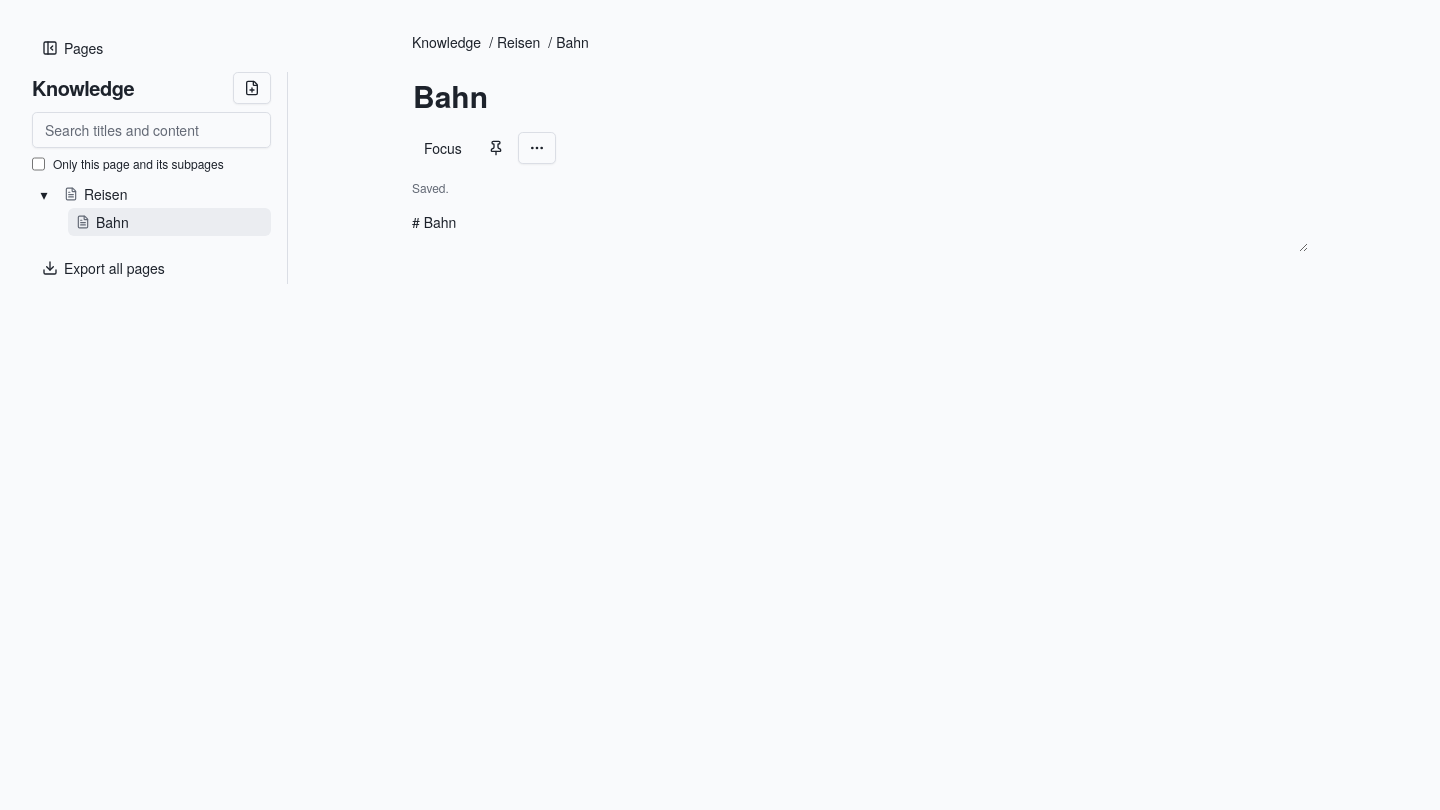
Scenario: Knowledge › shows what a page used to say and says what putting one back does
Click the button named "Page actions": point(537, 148) [518, 132, 556, 164]
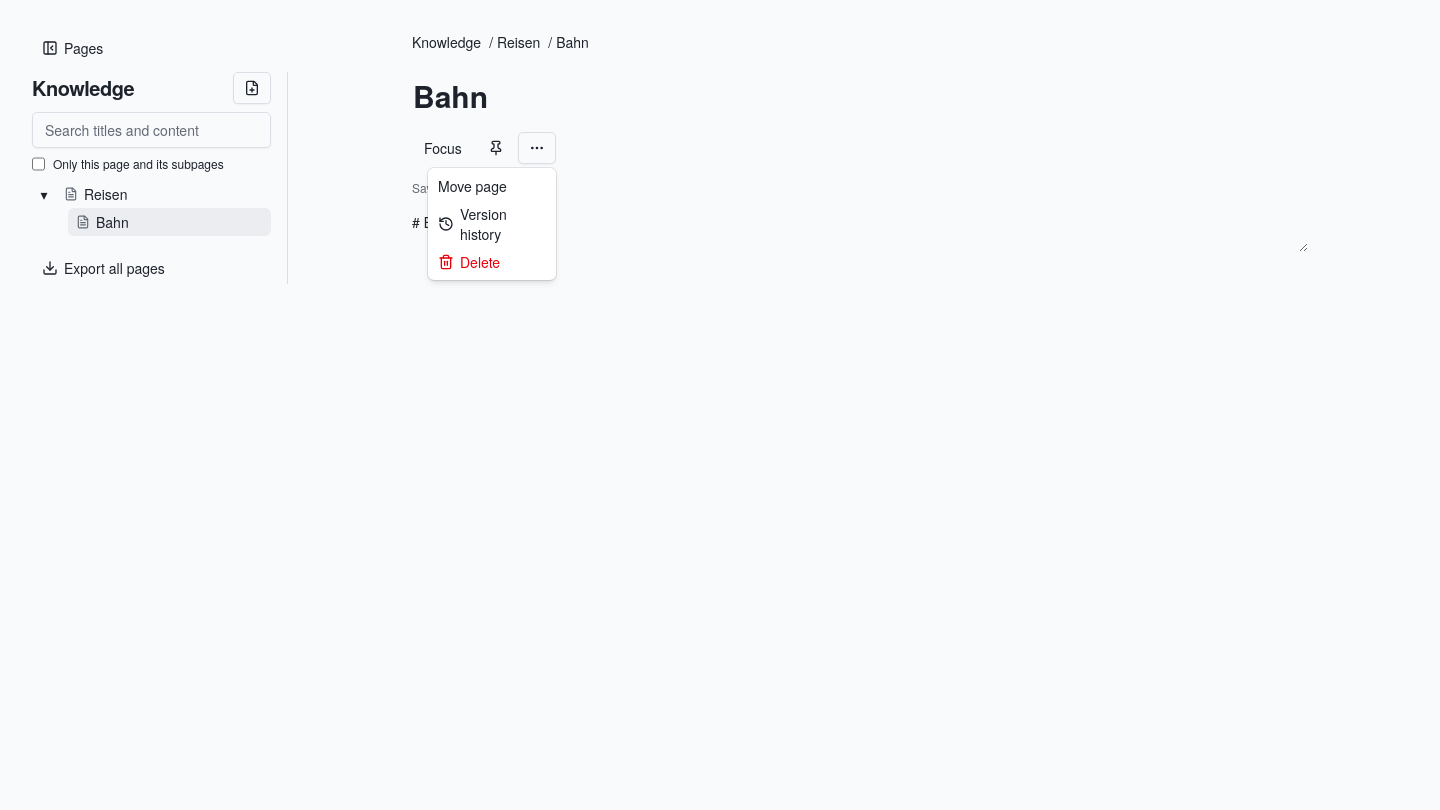
Click the menu item "Version history": point(472, 224) [438, 204, 507, 244]
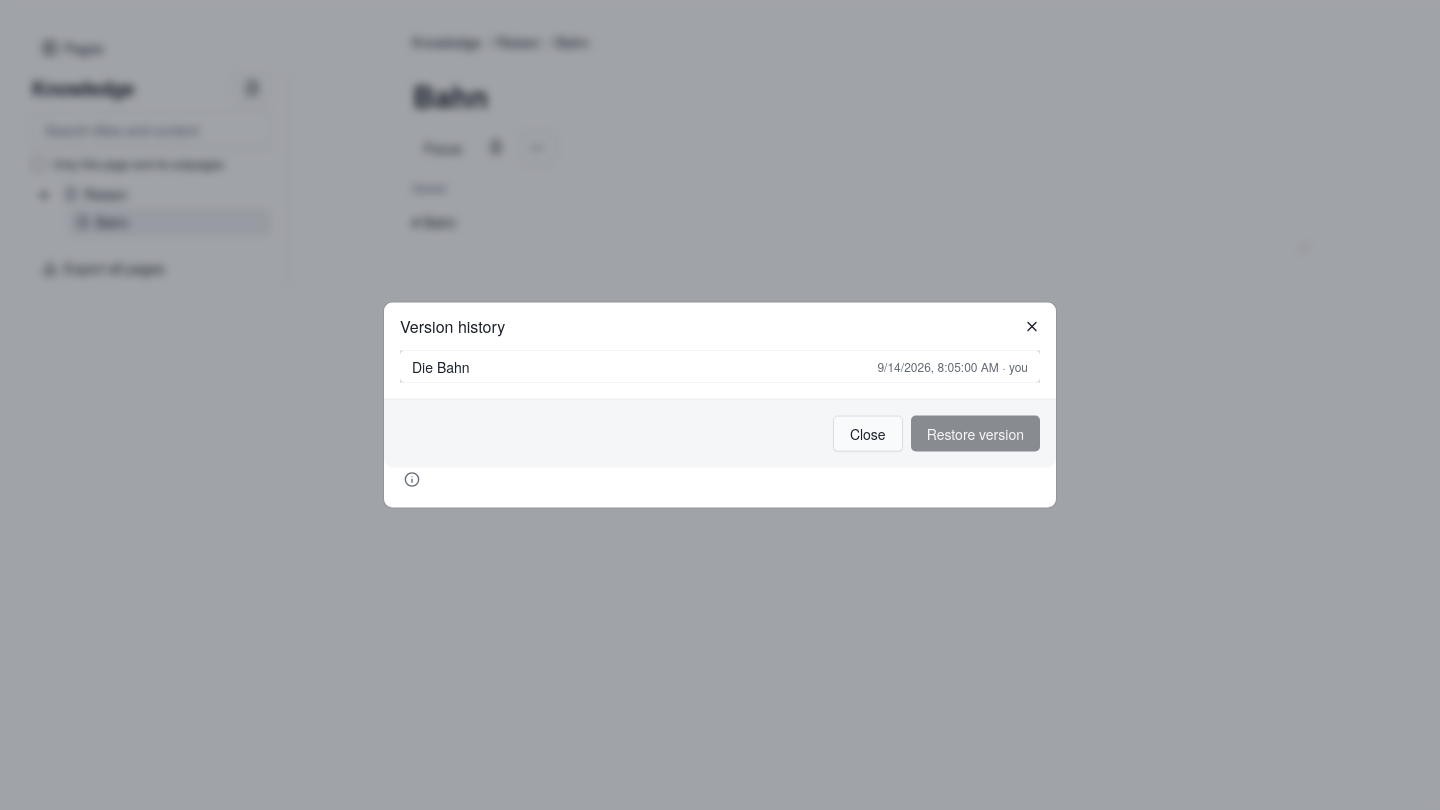
Click the button "Die Bahn 9/14/2026, 8:05:00 AM · you": point(441, 366) [400, 350, 1040, 382]
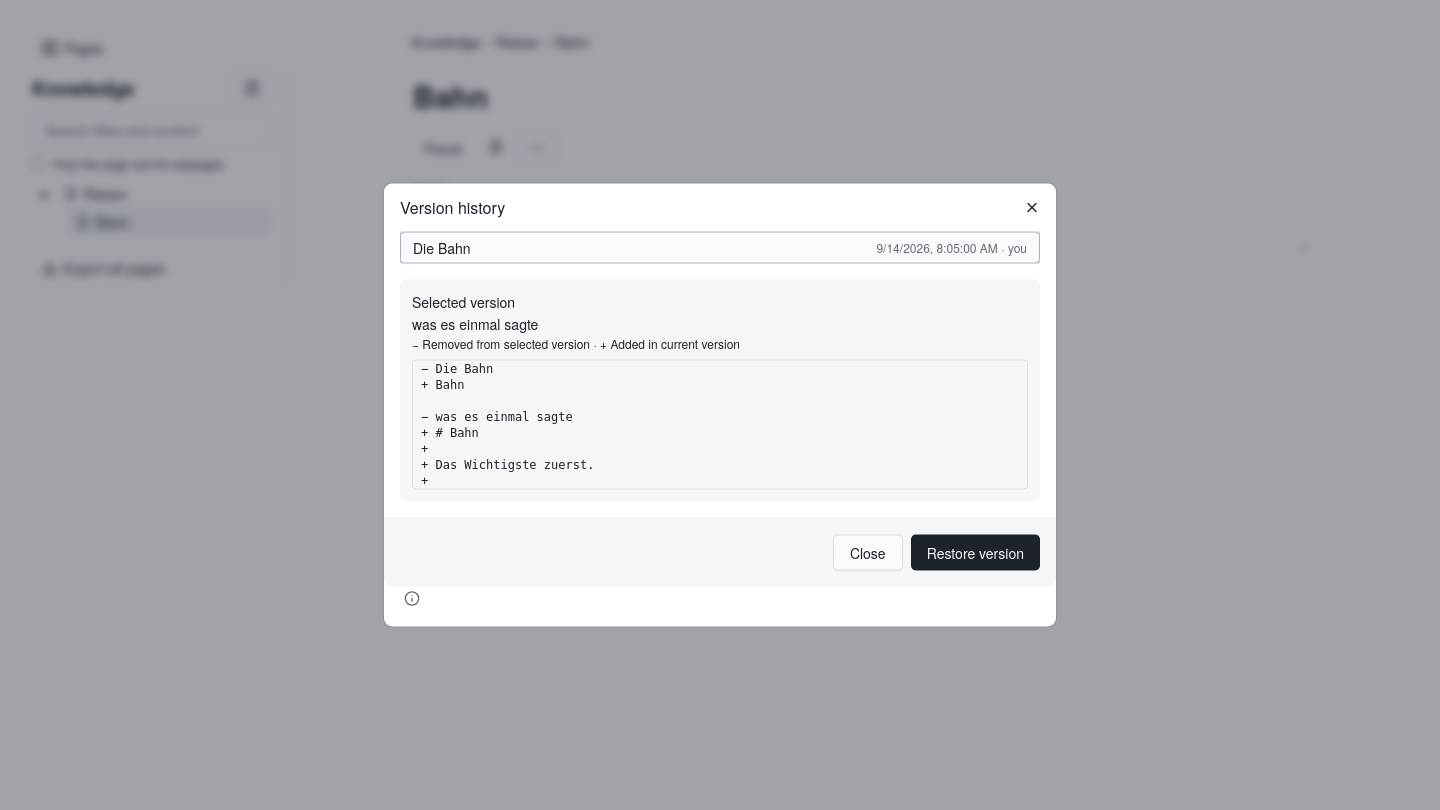
expect the text "was es einmal sagte" is shown: met, box [412, 314, 538, 334]
expect the element named "Changes from selected version to current page" shows "Das Wichtigste zuerst.": met, box [436, 458, 594, 472]
The fact that makes it safe, said on the screen where it is done.
Click the heading named "Restoring versions help": point(412, 598) [400, 586, 424, 610]
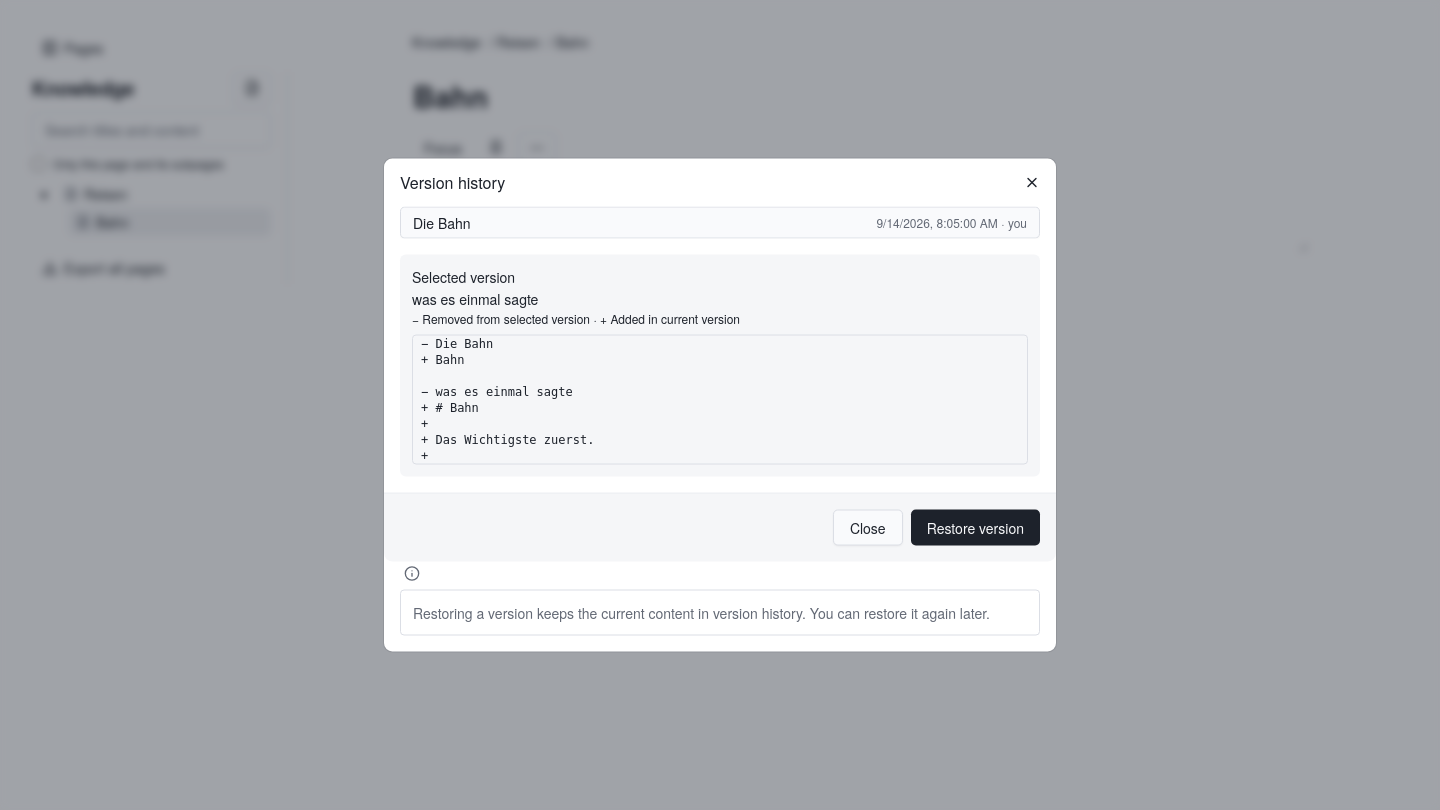
expect the text "Restoring a version keeps the current content" is shown: met, box [413, 602, 990, 622]
Click the button "Restore version": point(975, 528) [911, 510, 1040, 546]
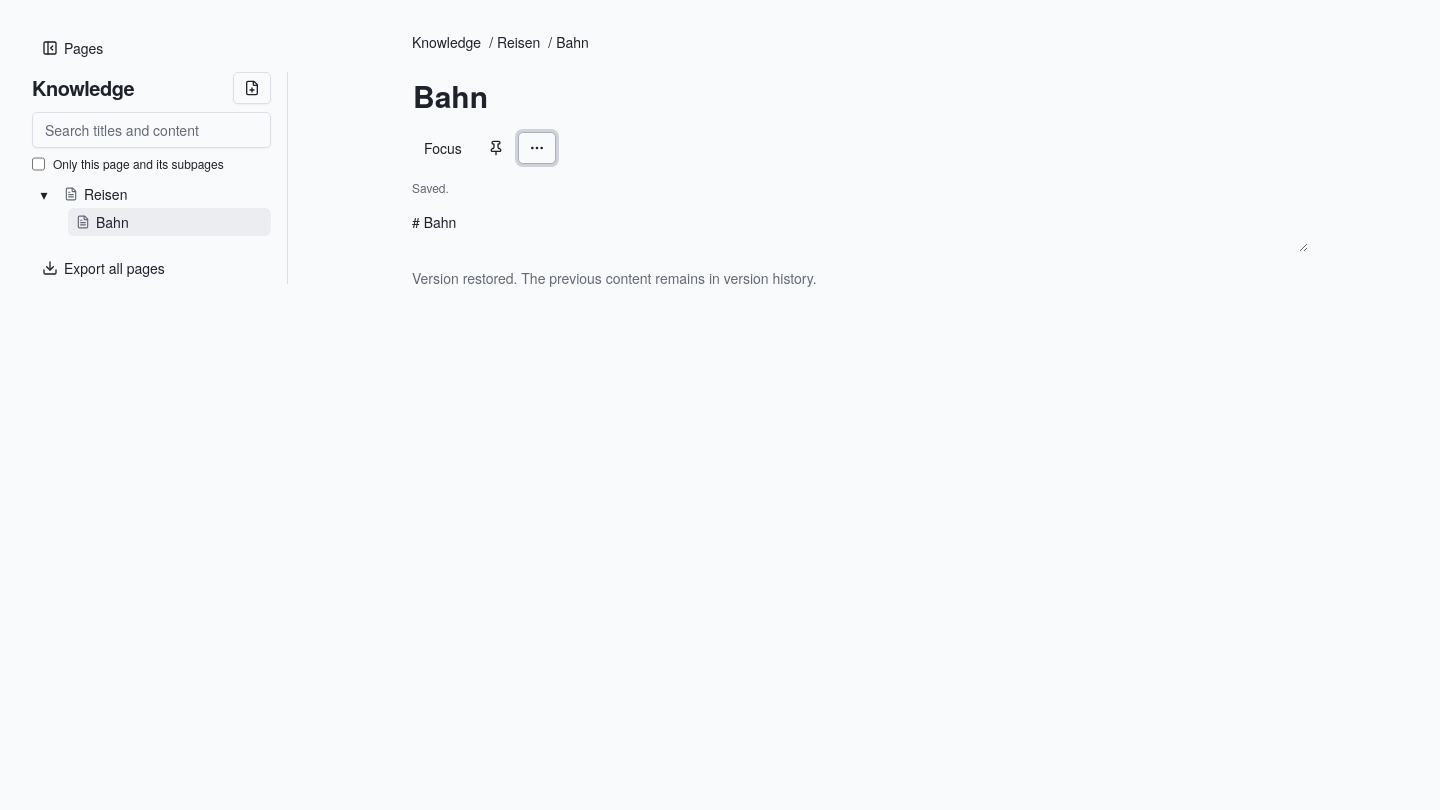
expect the text "Version restored. The previous content remains in version history." is shown: met, box [412, 268, 817, 288]
